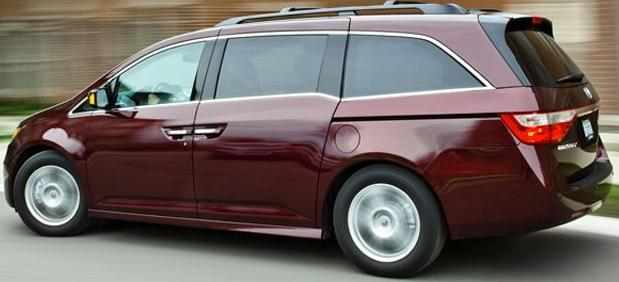back_view: (479, 81, 611, 212)
backlight: (482, 86, 580, 149)
side_glass: (91, 36, 340, 123)
